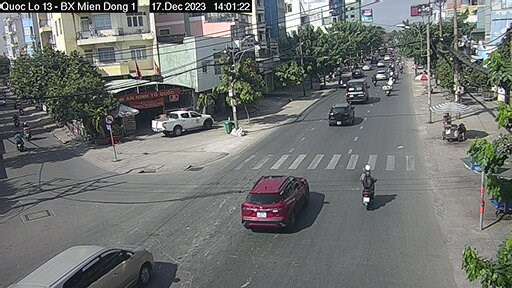car: (239, 172, 316, 232), (149, 108, 217, 138), (325, 101, 358, 131), (344, 82, 372, 104), (375, 66, 388, 83)
motorbike: (358, 166, 378, 210), (12, 130, 27, 155)
